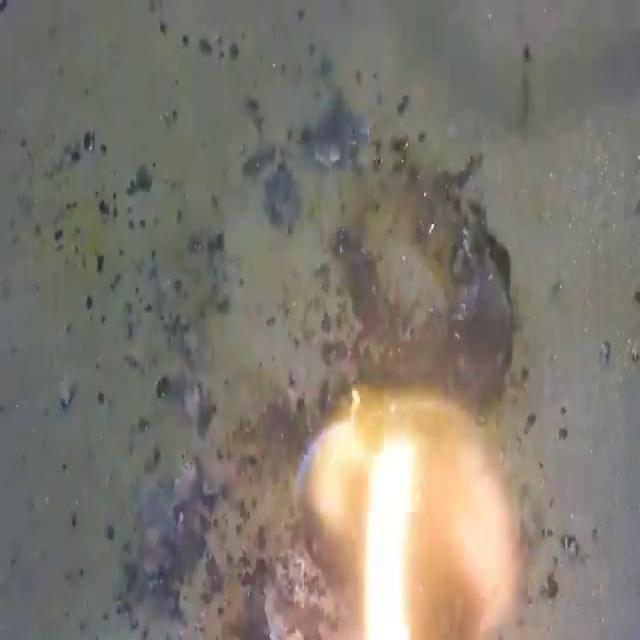Fire: (3, 4, 636, 636), (293, 381, 522, 638)
